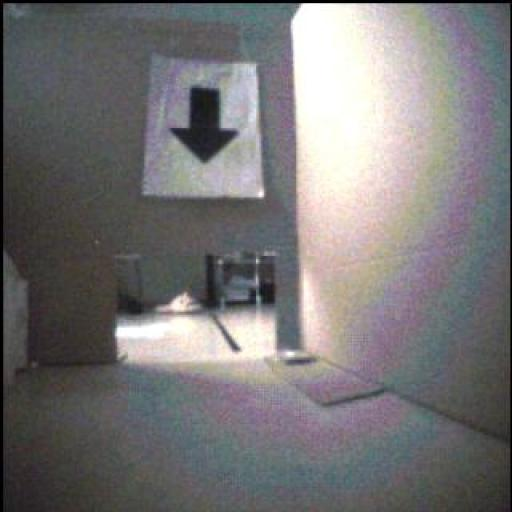arrow: (171, 89, 240, 164)
